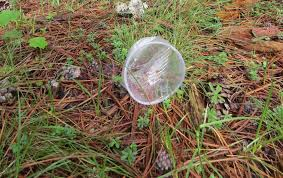plastic: (118, 35, 191, 107)
